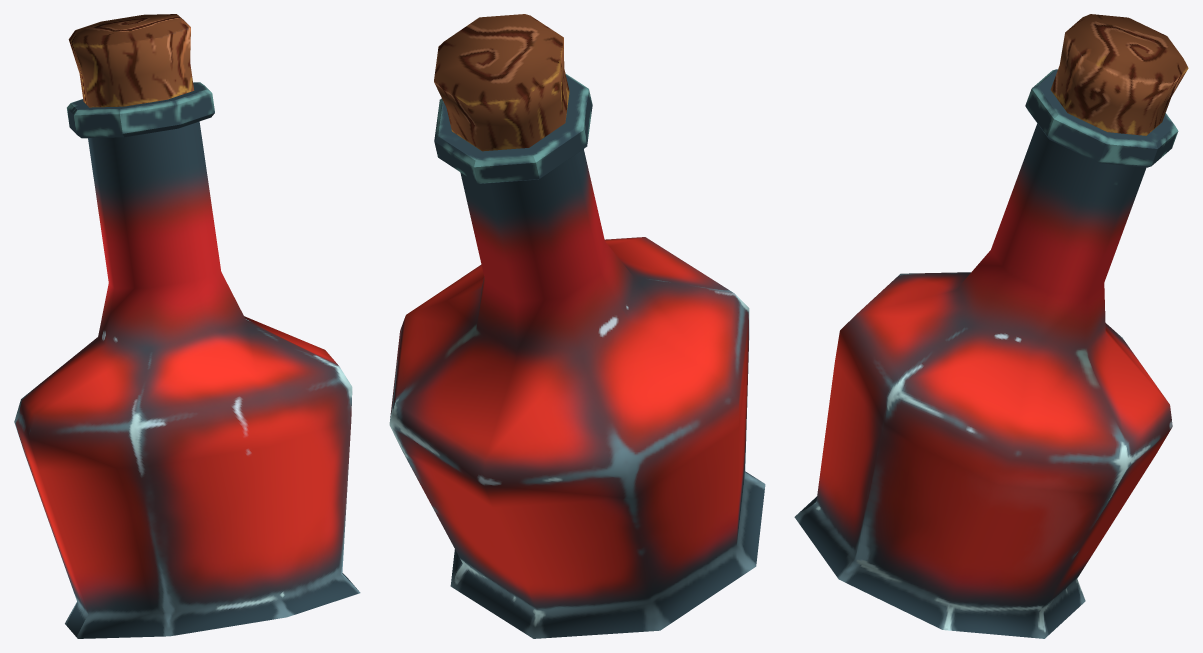
File: pocion_roja.fbx
3 renders of one model, left to right at view 1: azimuth 30°, elevation 25°; view 2: azimuth 150°, elevation 25°; view 3: azimuth 270°, elevation 25°, orthographic. The views are drawn at different scales.
Parts seen in each view (by area): view 1: Pocion:pCylinder1, Pocion:pCylinder2; view 2: Pocion:pCylinder1, Pocion:pCylinder2; view 3: Pocion:pCylinder1, Pocion:pCylinder2.
Boxes of the visible parts, left/top/right/bottom form: Pocion:pCylinder1: left=14, top=82, right=360, bottom=638; Pocion:pCylinder2: left=68, top=14, right=194, bottom=107; Pocion:pCylinder1: left=389, top=73, right=765, bottom=638; Pocion:pCylinder2: left=434, top=14, right=569, bottom=151; Pocion:pCylinder1: left=794, top=69, right=1178, bottom=638; Pocion:pCylinder2: left=1050, top=14, right=1188, bottom=135.
Size of the model in its own units: 6.1 by 10.72 by 6.6.
